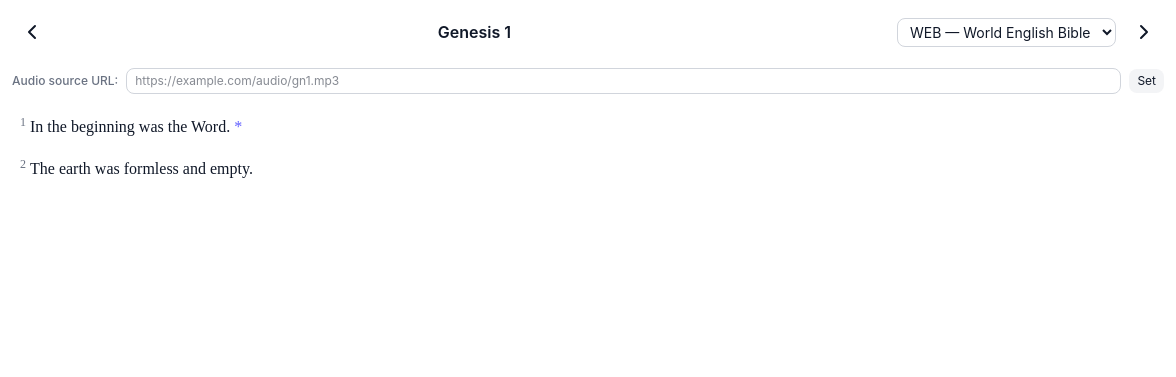
Scenario: Reader › opens cross-reference popup for a verse with refs
Expected: the button "Genesis 1" is shown, [60,12,889,52]
Click the text "In the beginning was the Word.": {"x": 131, "y": 125} [20,115,242,135]
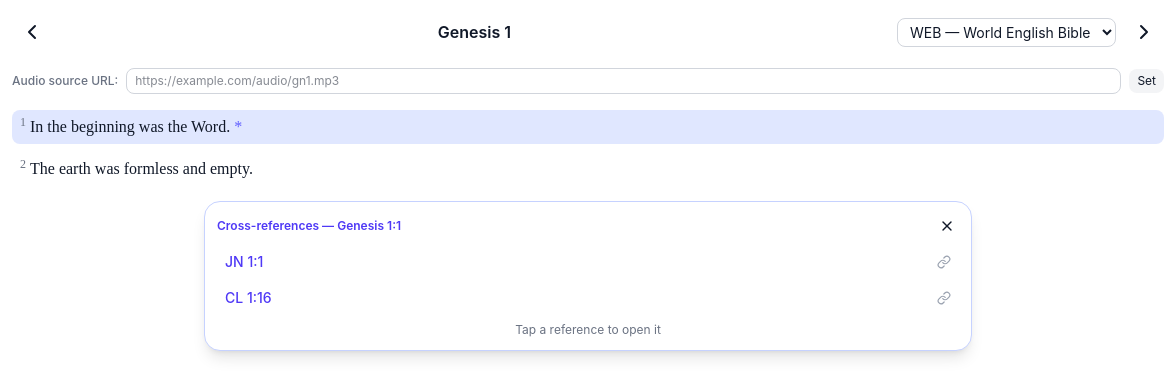
Now the text "JN 1:1" is shown, box [225,252,263,272]
Now the text "CL 1:16" is shown, box [225,288,272,308]
